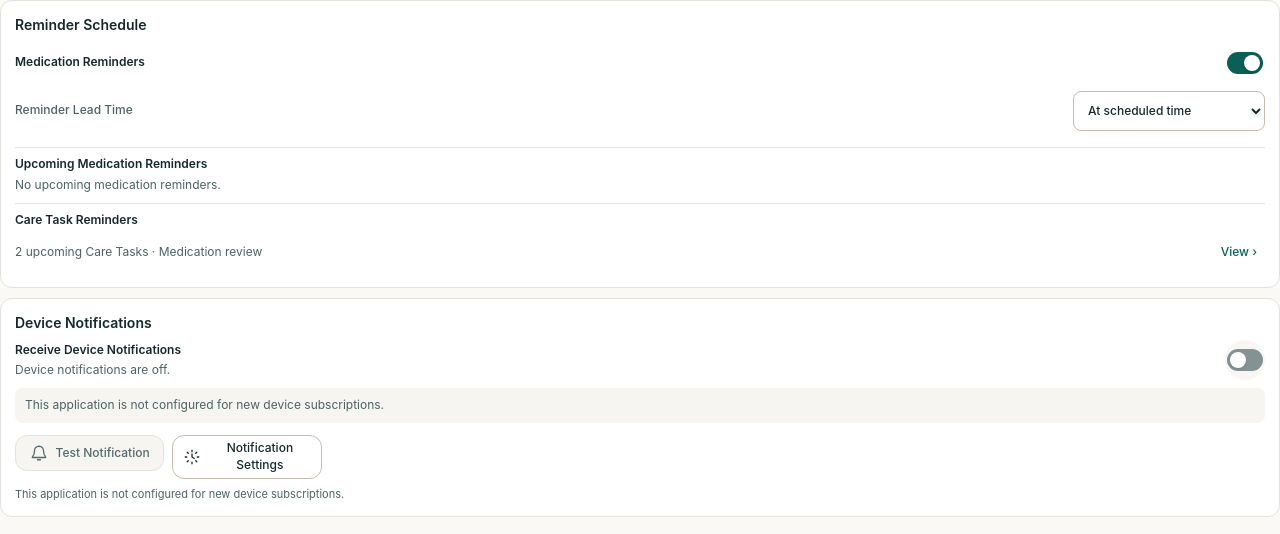
Test: retains the confirmed medication reminder state after a failed save
Click the switch named "Medication Reminders".
click(1245, 63)  # box [1225,43,1265,83]
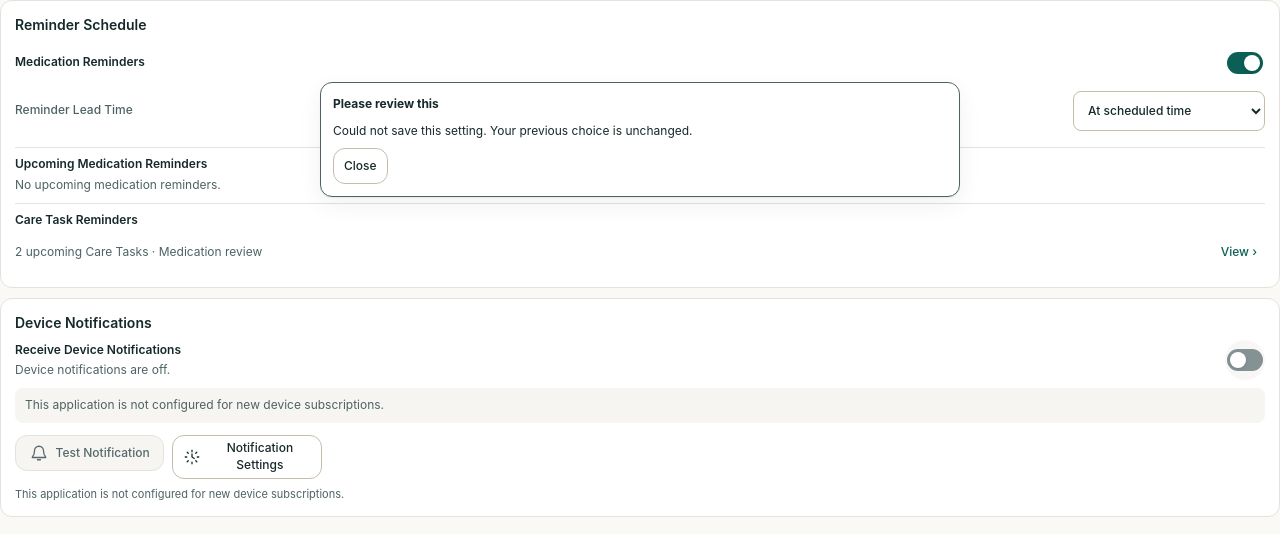
Expected: the dropdown labelled "Reminder Lead Time" is shown, [1073,91,1265,131]
Result: the message is shown at [320,82,960,197]
